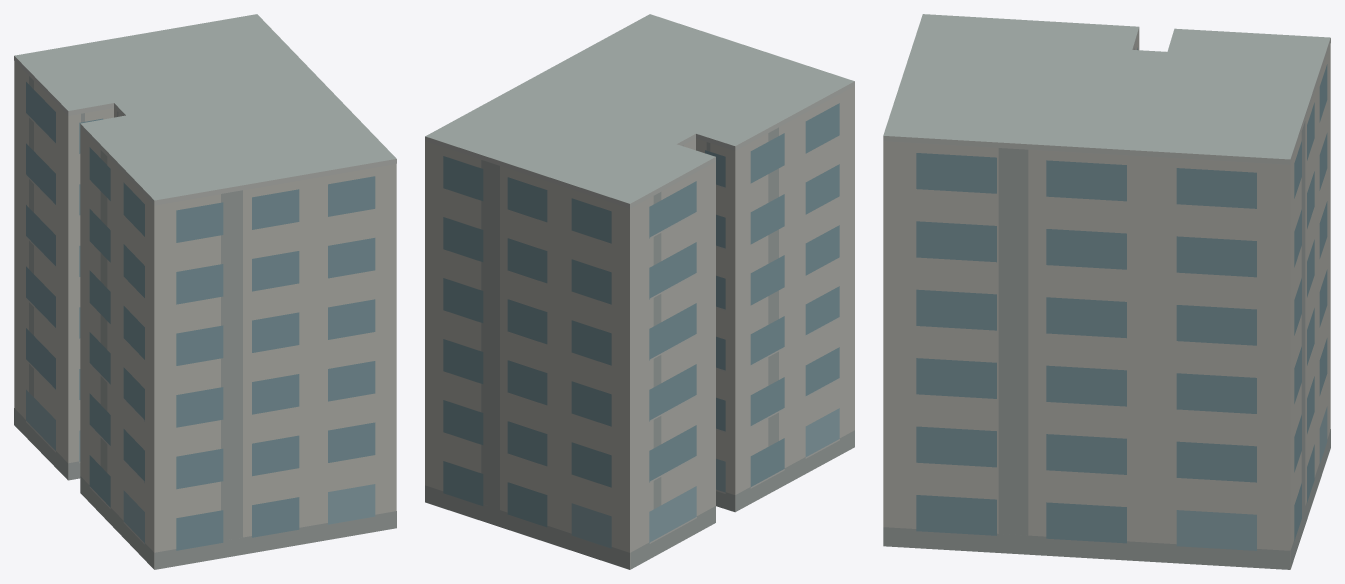
The model's file is survey-upis-32634381.glb.
3 renders of one model, left to right at view 1: azimuth 30°, elevation 25°; view 2: azimuth 150°, elevation 25°; view 3: azimuth 270°, elevation 25°, orthographic. The views are drawn at different scales.
Visible parts, largest first — view 1: survey-upis-32634381.tmp; view 2: survey-upis-32634381.tmp; view 3: survey-upis-32634381.tmp.
Boxes of the visible parts, left/top/right/bottom form: survey-upis-32634381.tmp: left=14, top=14, right=396, bottom=569; survey-upis-32634381.tmp: left=425, top=14, right=854, bottom=569; survey-upis-32634381.tmp: left=883, top=14, right=1330, bottom=569.
Size of the model in its own units: 13.92 by 18.3 by 18.1.
